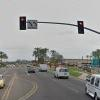Traffic light: (10, 9, 43, 36)
